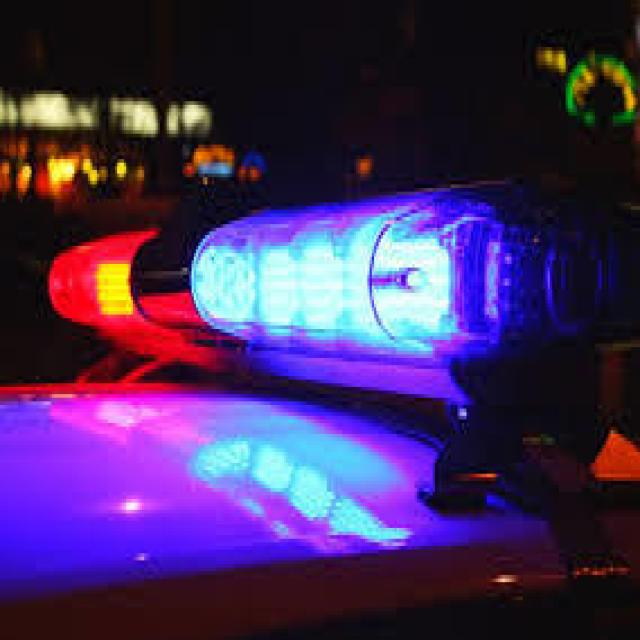ambulance: (38, 190, 606, 413)
